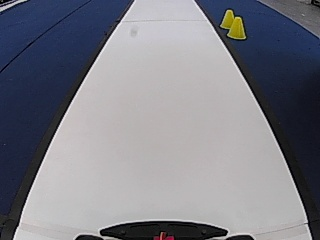cone: (227, 16, 246, 39), (219, 8, 235, 29)
